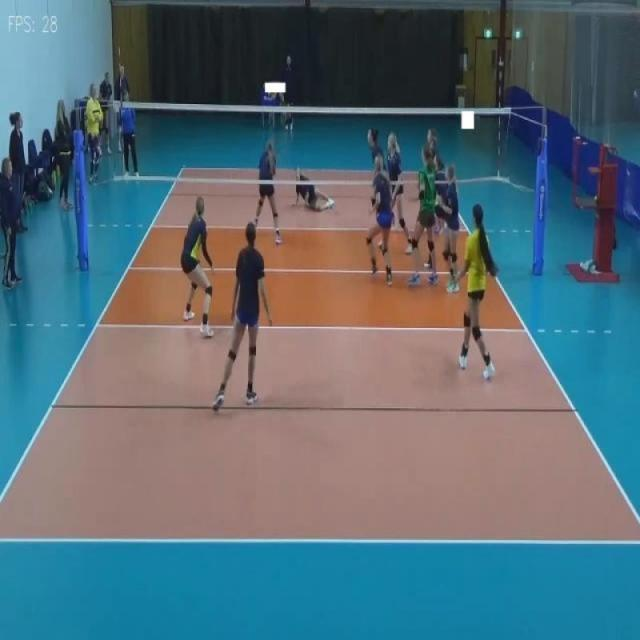volleyball: (267, 92, 278, 100)
